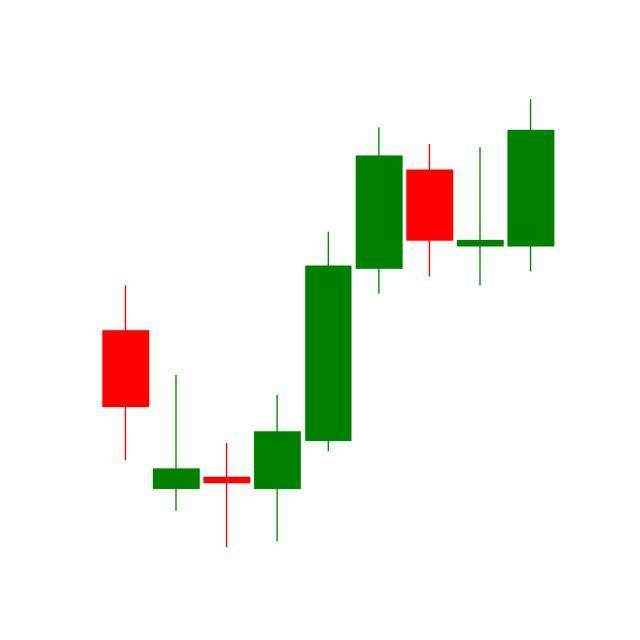Hikkake Pattern: (252, 124, 506, 547)
